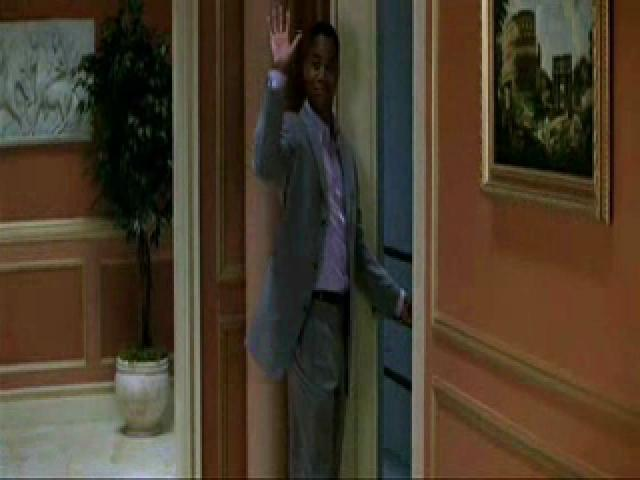T: (248, 0, 431, 480)
